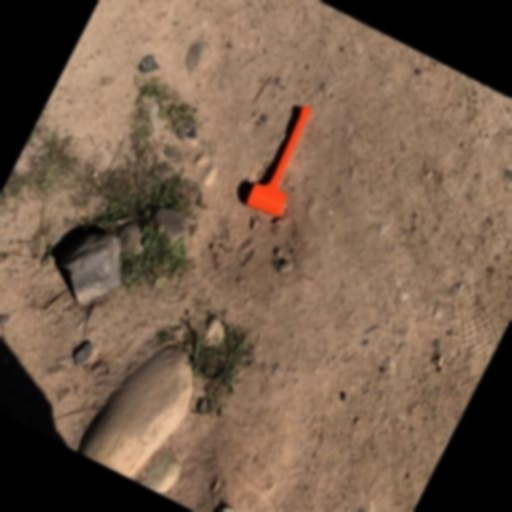mallet: (238, 95, 332, 224)
